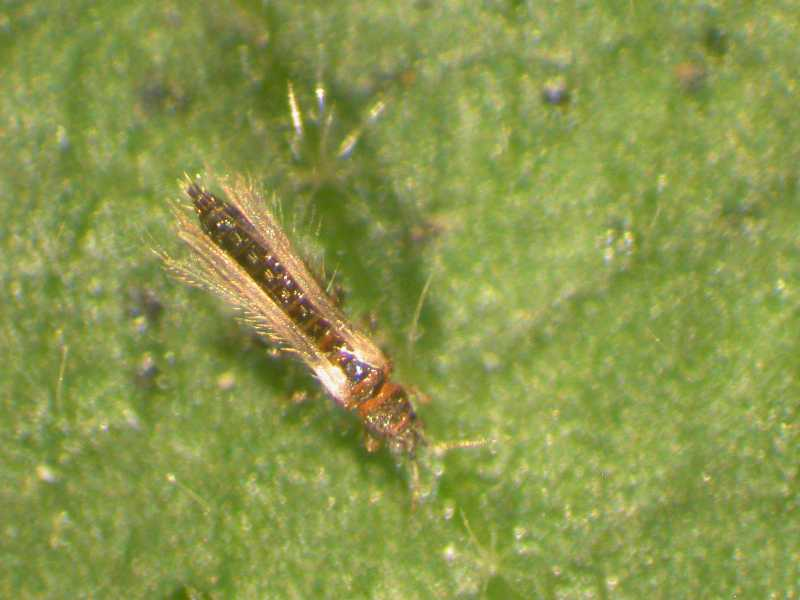Thrips: (160, 169, 470, 495)
